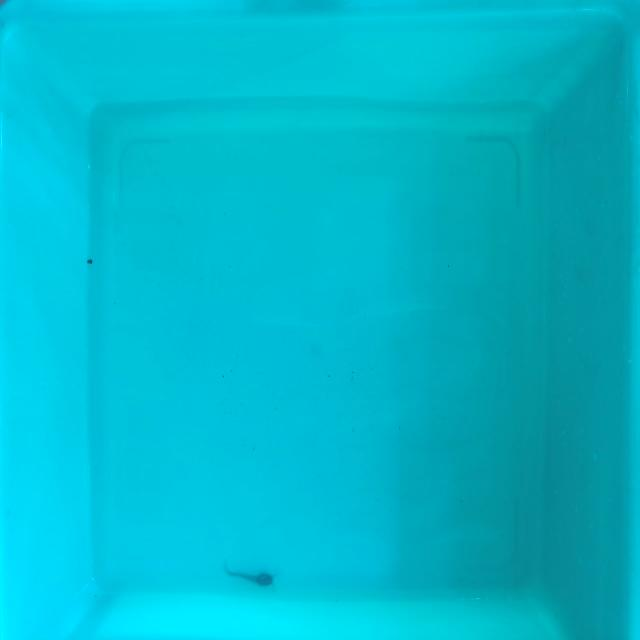lele: (221, 561, 279, 592)
